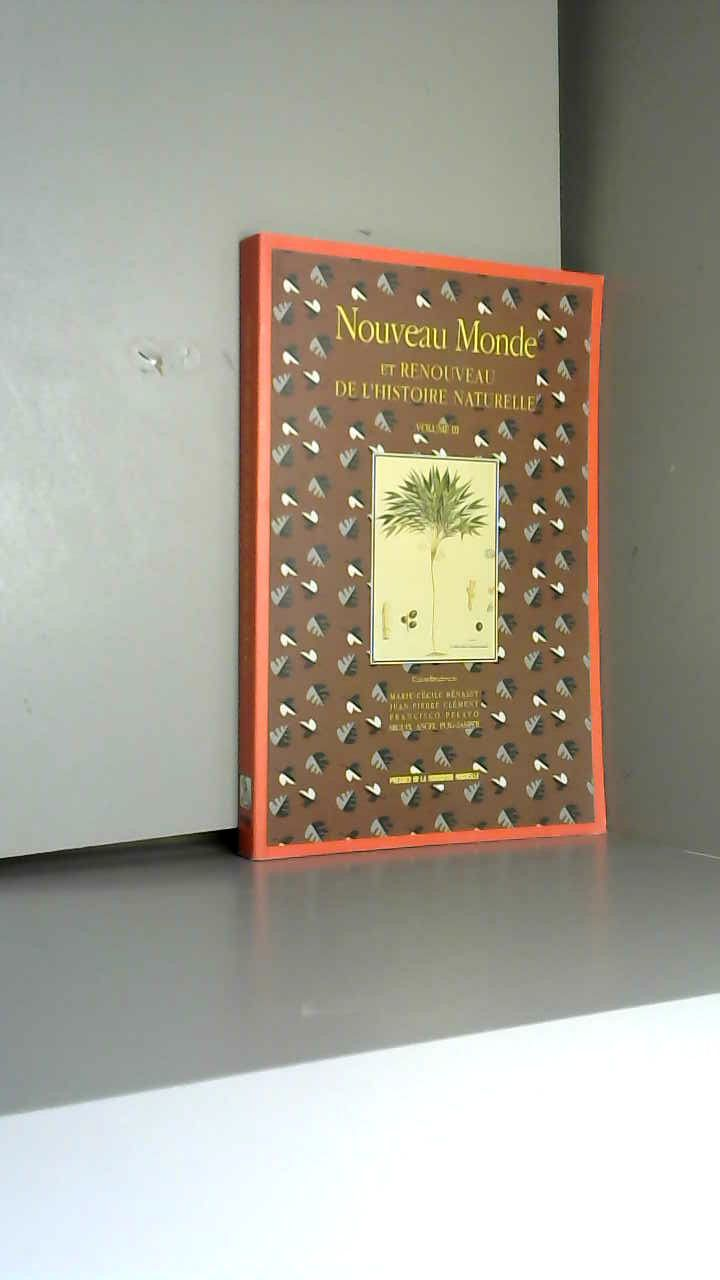book: (210, 200, 720, 937)
